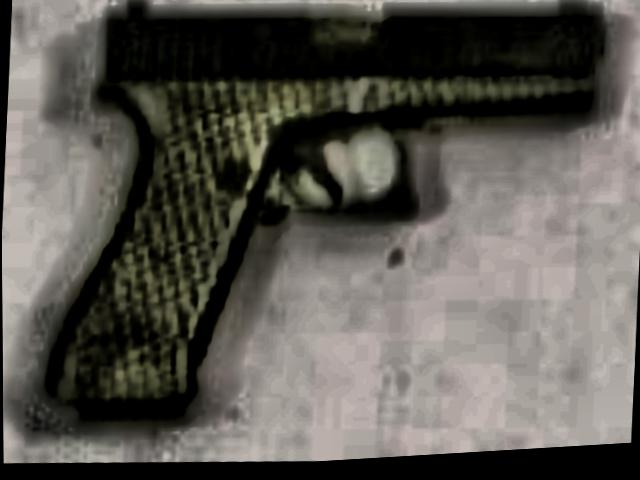pistol: (30, 0, 610, 445)
